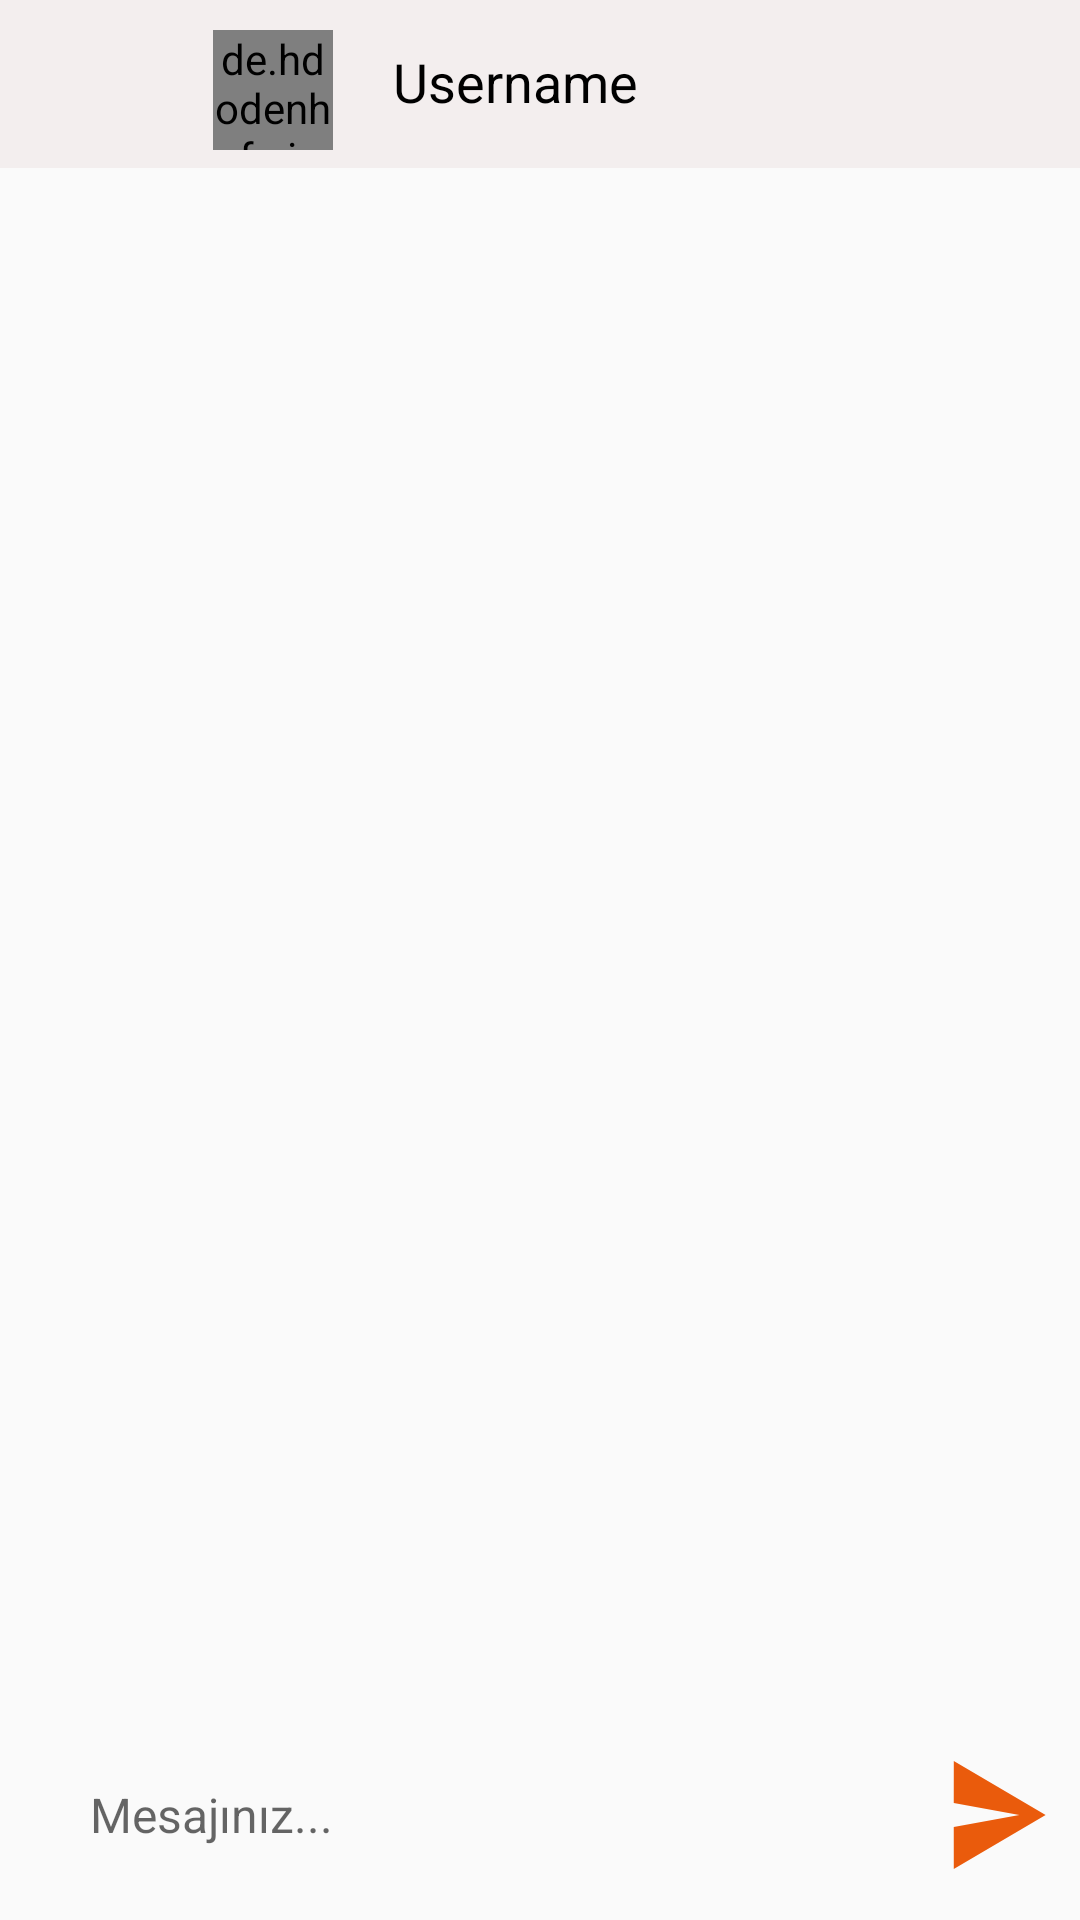

Where icons sit on this 1080 x 1920 app screen, as (x1=x1, y1=y1, x2=x2, y2=y2):
send: (x1=953, y1=1761, x2=1046, y2=1869)
